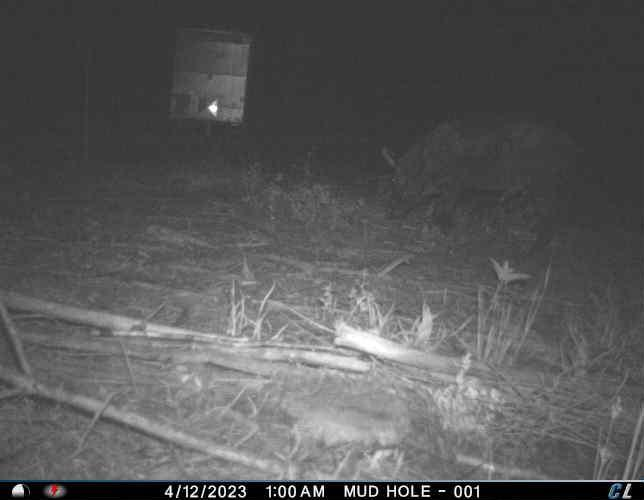Hog: (378, 108, 586, 251)
